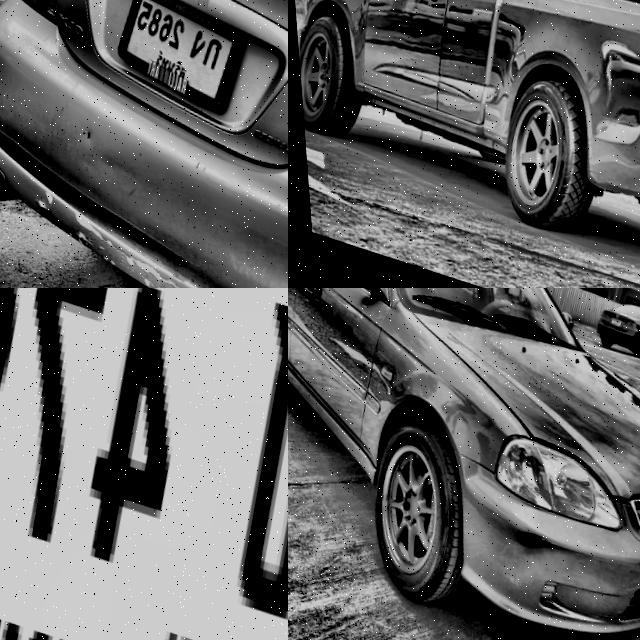license-plate: (0, 288, 288, 640), (98, 0, 253, 115)
